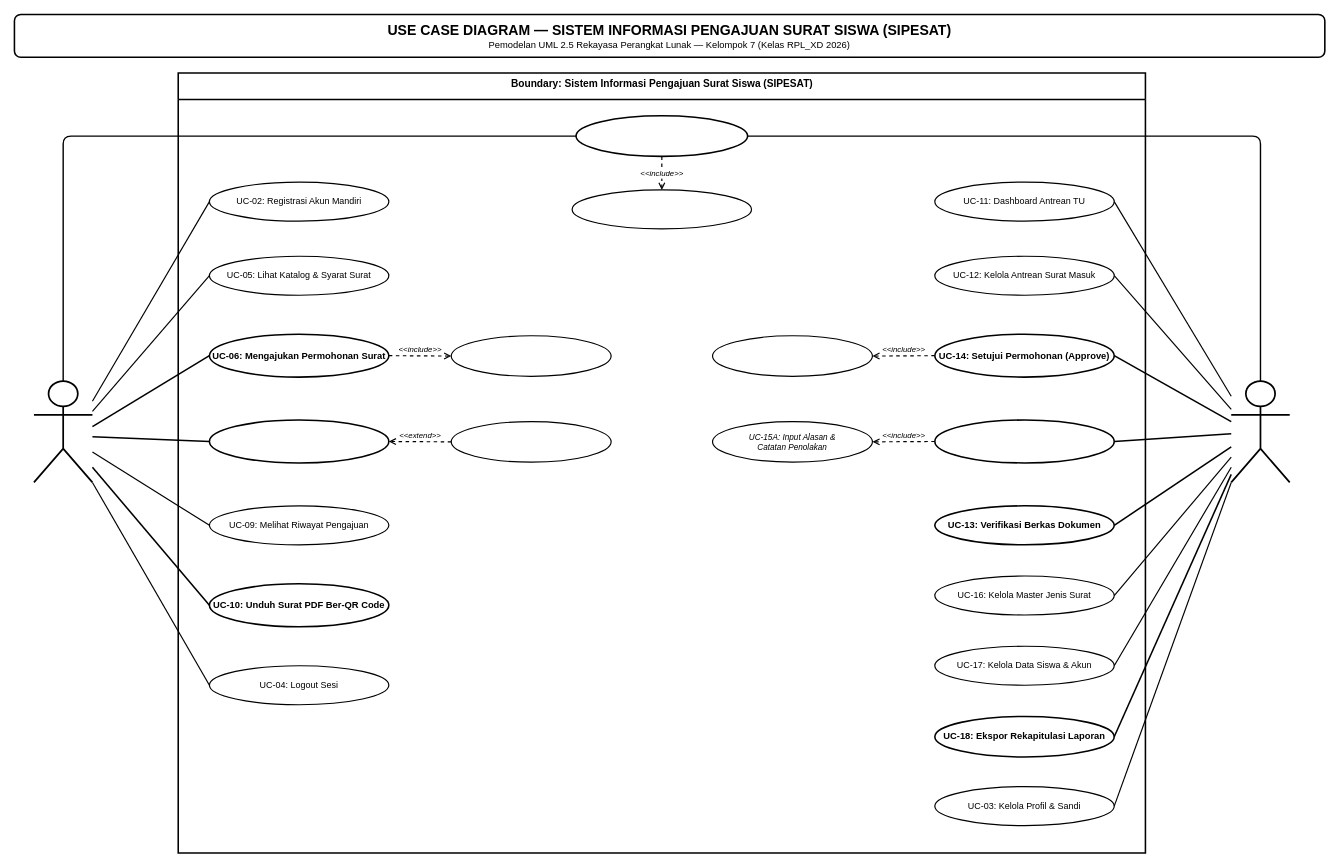
Image size: 1338x867. Some labels were removed from this diagram. The shapes that lost their labels are listed below. From the top down, each one's centre as x and y in pixels, then its label:
At point (661, 136): "UC-01: Login ke Sistem".
At point (661, 209): "UC-01B: Validasi Kredensial & Hak Akses".
At point (530, 356): "UC-07: Unggah Berkas Syarat (PDF ≤ 2MB)".
At point (792, 356): "UC-14A: Terbitkan No. Surat & TTE QR Code Resmi".
At point (63, 431): "Siswa (Aktor Pemohon)".
At point (298, 441): "UC-08: Melacak Status Surat (Real-time)".
At point (530, 441): "UC-08A: Melihat Catatan Koreksi Revisi Berkas".
At point (1024, 441): "UC-15: Tolak Permohonan (Reject)".
At point (1260, 431): "Petugas TU (Verifikator & TU)".
